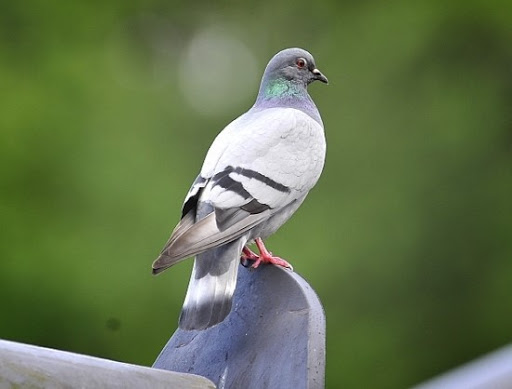pigeon: (149, 38, 346, 333)
